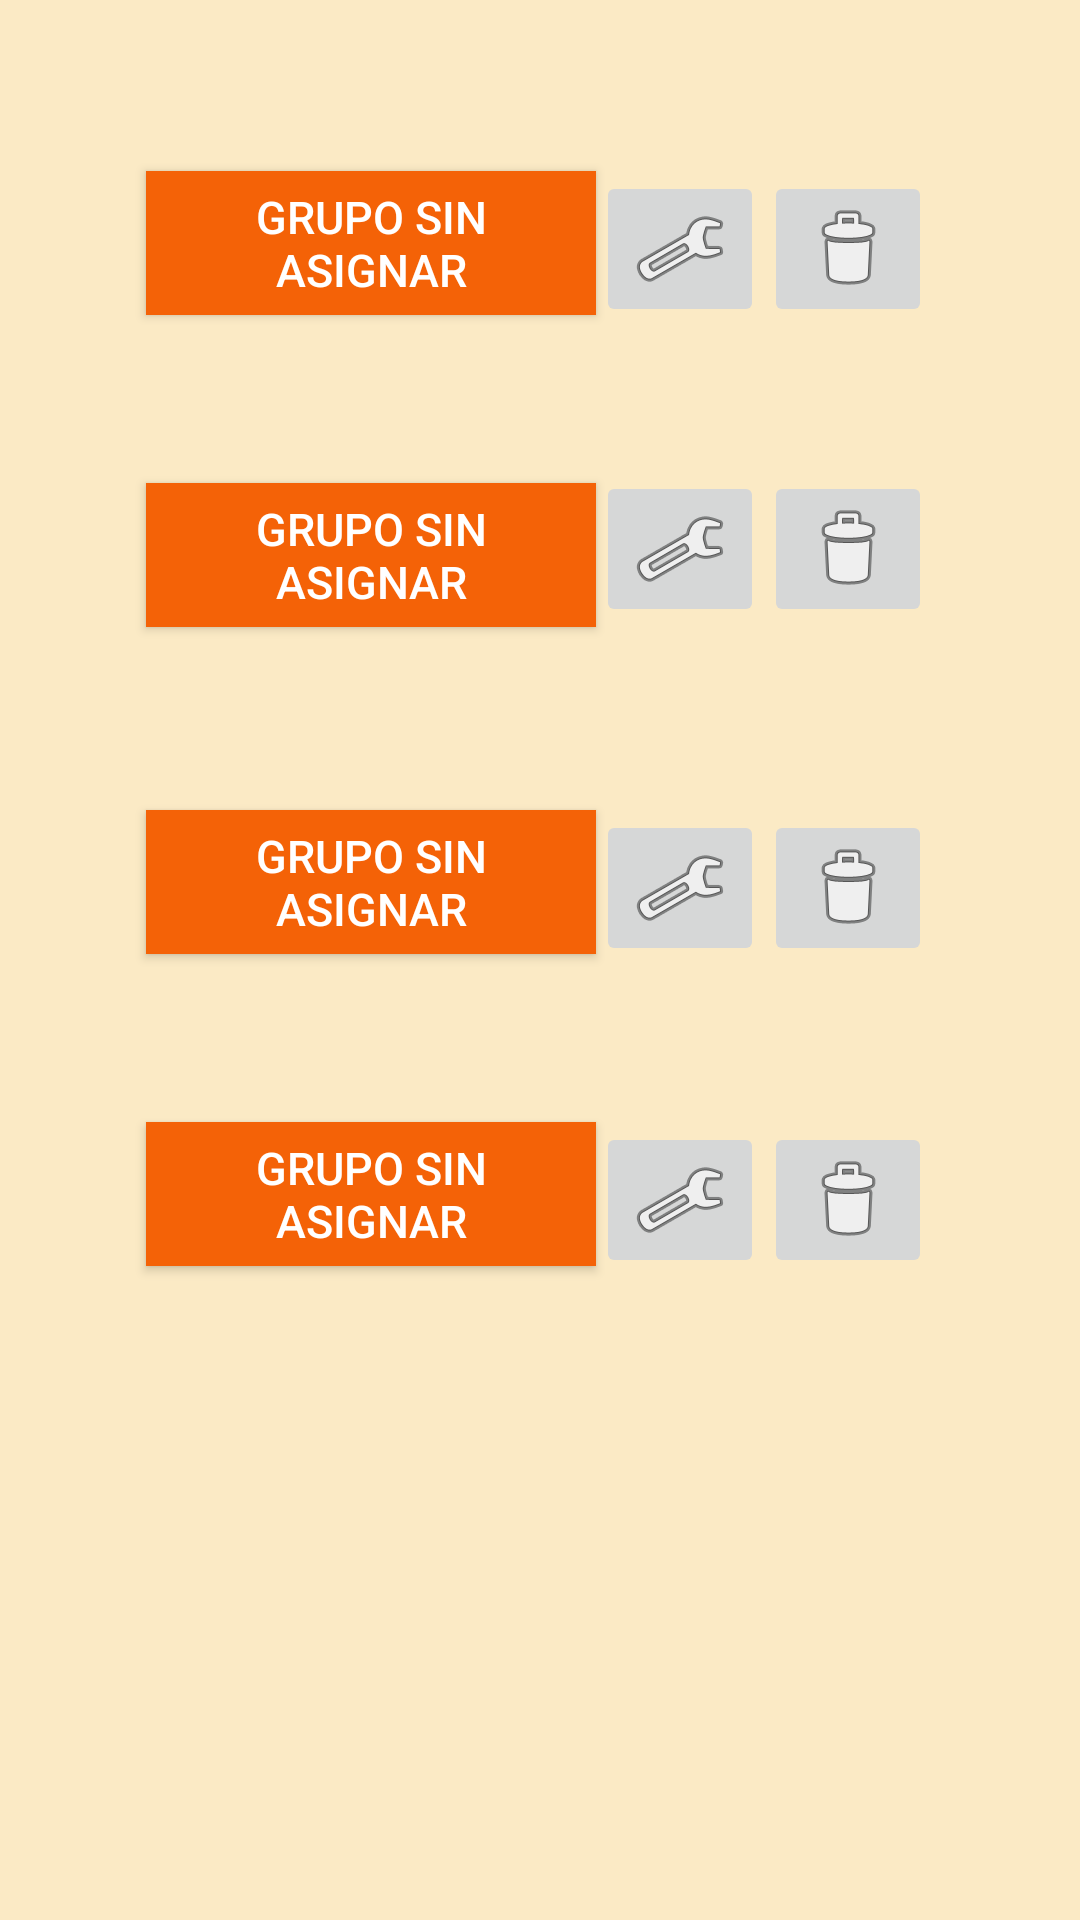

Screen size 1080 × 1920. Icon name, then its box in pixels as (x1, y1, x2, y2):
delete: (776, 189, 920, 309), (776, 489, 920, 609), (776, 828, 920, 948), (776, 1140, 920, 1260)
preferences: (608, 189, 752, 309), (608, 489, 752, 609), (608, 828, 752, 948), (608, 1140, 752, 1260)
